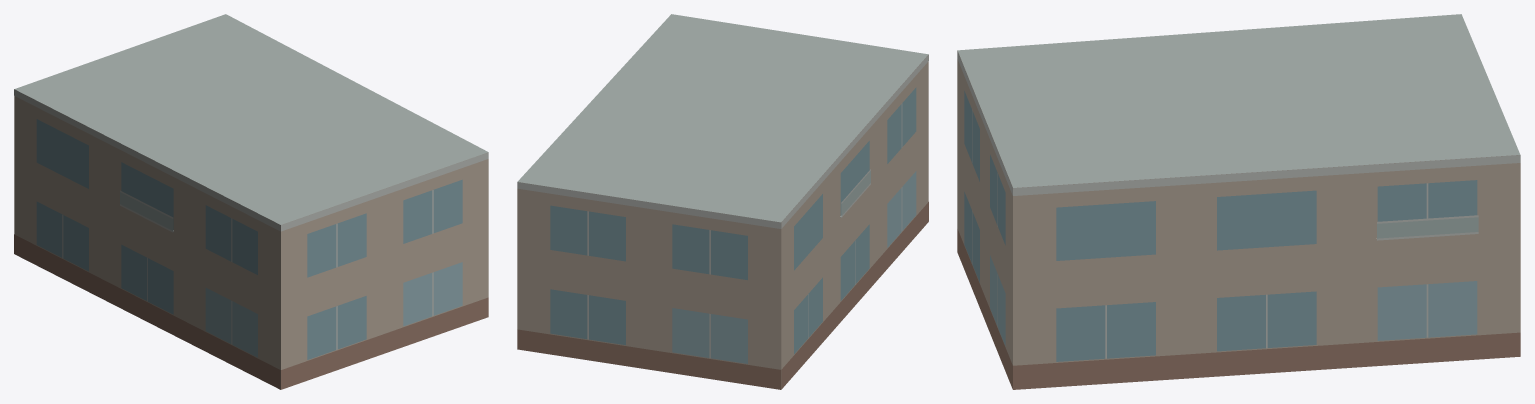
The model's file is survey-upis-32720976.glb.
3 views of the same model, side by side, from view 1: azimuth 30°, elevation 25°; view 2: azimuth 150°, elevation 25°; view 3: azimuth 270°, elevation 25° (orthographic). The views are drawn at different scales.
Visible parts, largest first — view 1: survey-upis-32720976.tmp; view 2: survey-upis-32720976.tmp; view 3: survey-upis-32720976.tmp.
Boxes of the visible parts, bbox=[...] form: survey-upis-32720976.tmp: bbox=[14, 14, 488, 389]; survey-upis-32720976.tmp: bbox=[517, 14, 928, 389]; survey-upis-32720976.tmp: bbox=[957, 14, 1520, 389].
Bounding box in the file's own units: 11.29 × 6.1 × 15.43.
